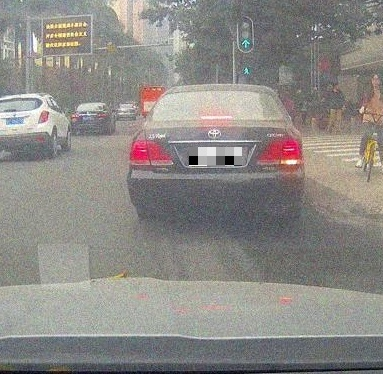L_light: (130, 139, 173, 166), (71, 114, 79, 118)
R_light: (258, 139, 301, 164), (98, 113, 107, 117)
T_light: (200, 115, 232, 120), (89, 104, 95, 106)
day-brake: (126, 84, 304, 217)
day-no: (71, 102, 108, 134)
plate_1: (189, 147, 242, 166)
